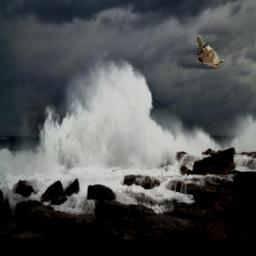Cuckoo: (196, 36, 223, 68)
